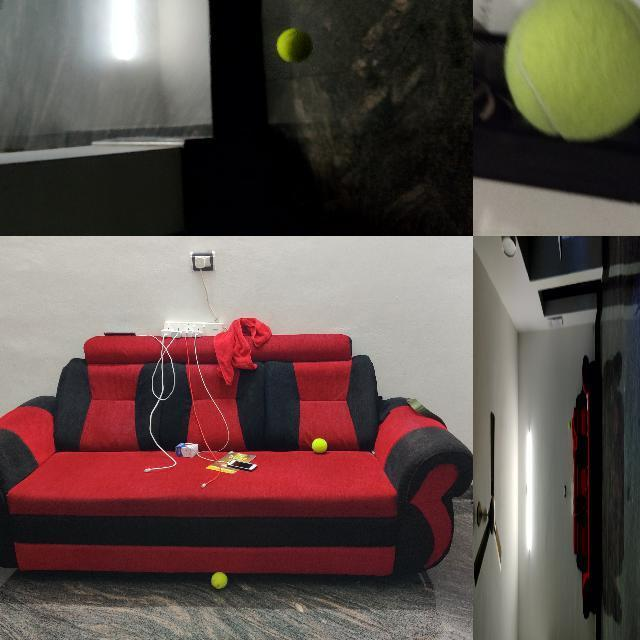tennis-ball: (503, 0, 639, 141), (276, 28, 313, 63), (211, 572, 228, 589), (311, 437, 327, 453), (568, 421, 571, 430)
